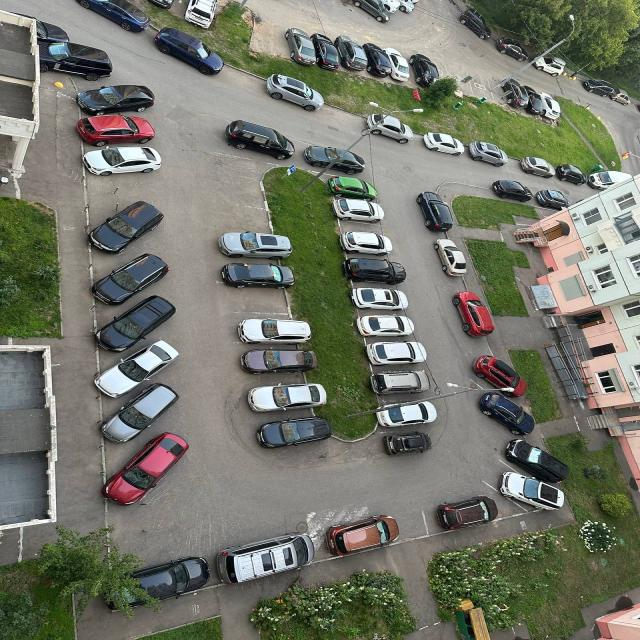car: (101, 427, 193, 507), (106, 554, 212, 612), (88, 338, 184, 400), (217, 531, 317, 586), (100, 381, 180, 444), (95, 293, 178, 353), (90, 251, 170, 307), (87, 200, 167, 255), (153, 26, 224, 78), (38, 37, 115, 82), (504, 436, 572, 486), (326, 514, 401, 558), (222, 118, 296, 161), (496, 469, 567, 512), (254, 413, 333, 450), (478, 389, 538, 437), (246, 381, 329, 415), (471, 352, 529, 400), (74, 0, 153, 35), (75, 83, 157, 116), (433, 494, 503, 532), (80, 145, 163, 177), (72, 114, 157, 145), (265, 71, 327, 112), (237, 347, 319, 377), (451, 291, 500, 340), (235, 317, 315, 347), (217, 232, 295, 261), (219, 262, 295, 290), (302, 143, 368, 175), (375, 397, 440, 428), (5, 12, 70, 43), (341, 257, 406, 285), (414, 191, 455, 234), (368, 369, 433, 396), (364, 341, 431, 367), (337, 229, 394, 256), (349, 287, 410, 312), (366, 112, 415, 143), (354, 314, 416, 338), (381, 431, 436, 458), (282, 25, 317, 67), (331, 198, 387, 224), (332, 34, 369, 73), (324, 175, 379, 201), (433, 239, 469, 277), (309, 32, 342, 72), (421, 129, 465, 156), (407, 52, 440, 88), (456, 7, 492, 40), (361, 42, 392, 80), (489, 177, 536, 202), (498, 77, 533, 110), (466, 139, 510, 165), (183, 0, 219, 30), (383, 46, 411, 84), (586, 170, 635, 190), (533, 187, 575, 210), (517, 156, 558, 178), (495, 38, 529, 63), (521, 82, 545, 117), (531, 55, 569, 77), (556, 164, 591, 187), (538, 90, 562, 121), (582, 77, 615, 98), (610, 86, 633, 105), (396, 0, 419, 14), (148, 0, 176, 11), (381, 0, 404, 13)
